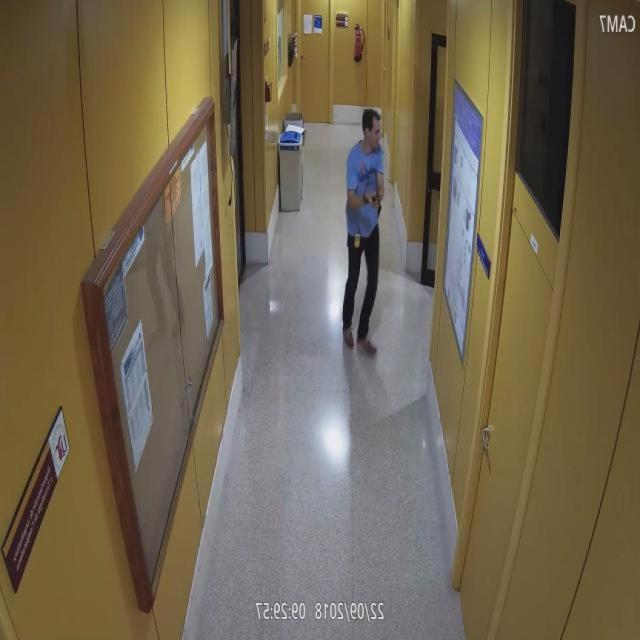pistol: (373, 182, 383, 212)
